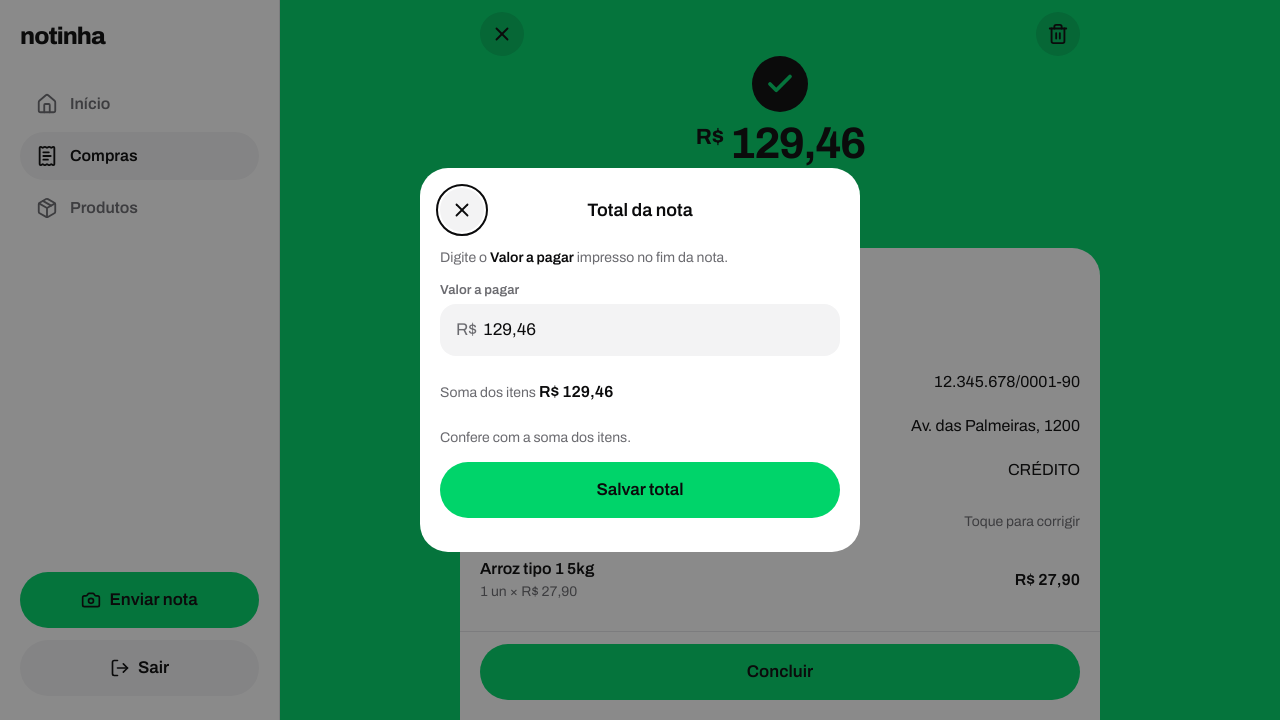
Test: correcting the receipt total › a failed save keeps the sheet open with the error
Step 1. Click the button "Salvar total" → (640, 490), box left=440, top=462, right=840, bottom=518
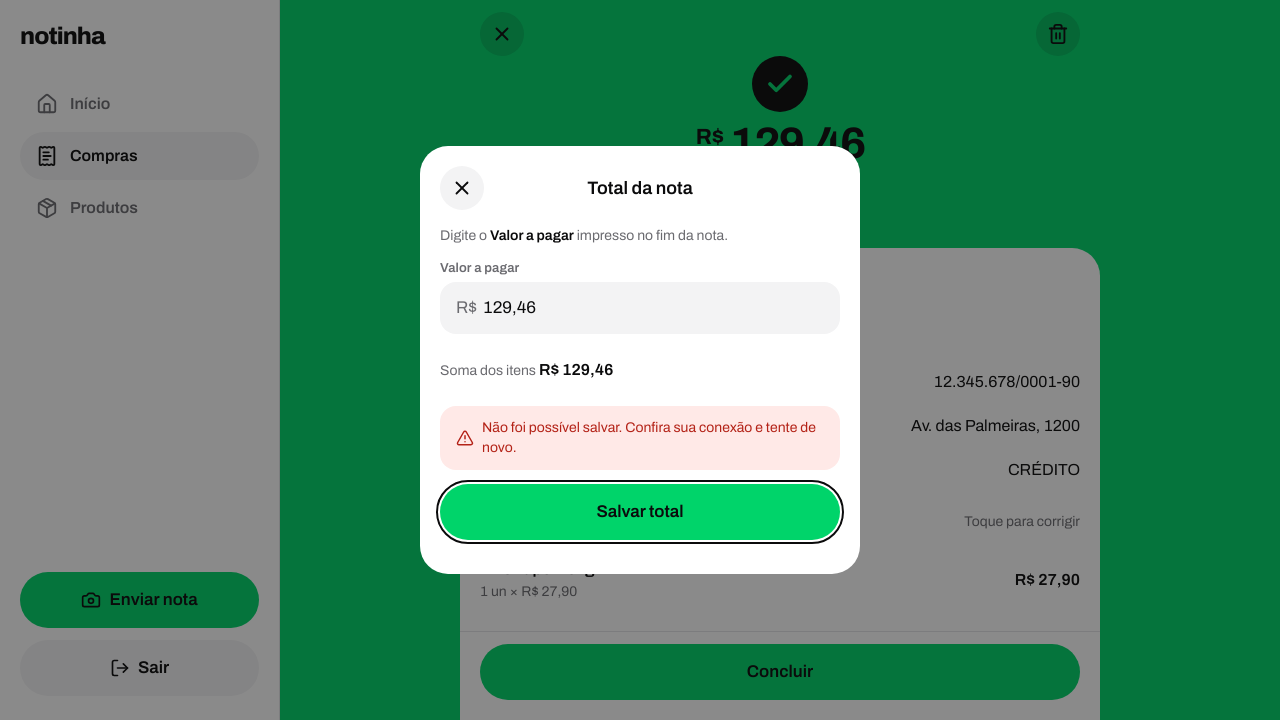
Result: the message shows "Não foi possível salvar" at left=482, top=420, right=816, bottom=455
